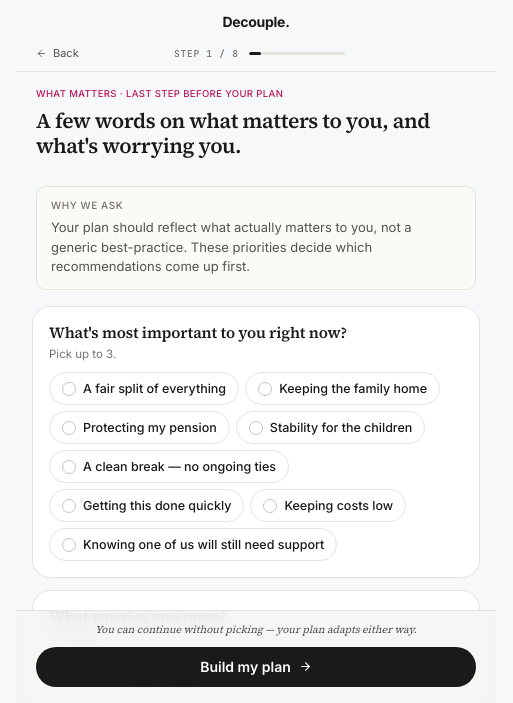
O6 (canvas-as-source) › disables unselected chips when 3 priorities are picked (B1 cap behaviour)
The image size is (513, 703).
Click the button "A fair split of everything": click(144, 389) x1=49 y1=372 x2=239 y2=405
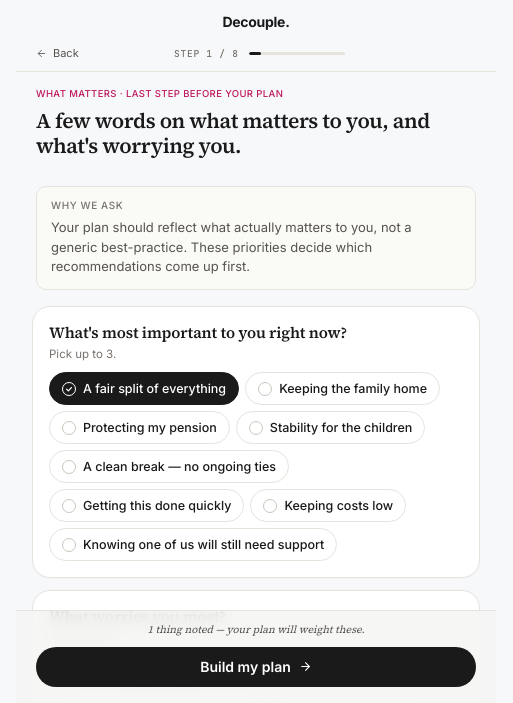
Click the button "Keeping the family home": click(343, 389) x1=245 y1=372 x2=440 y2=405
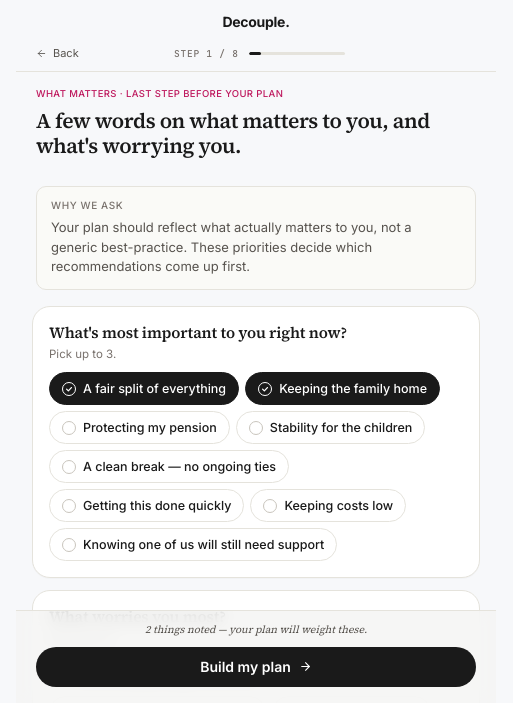
Click the button "Protecting my pension": click(139, 428) x1=49 y1=411 x2=230 y2=444
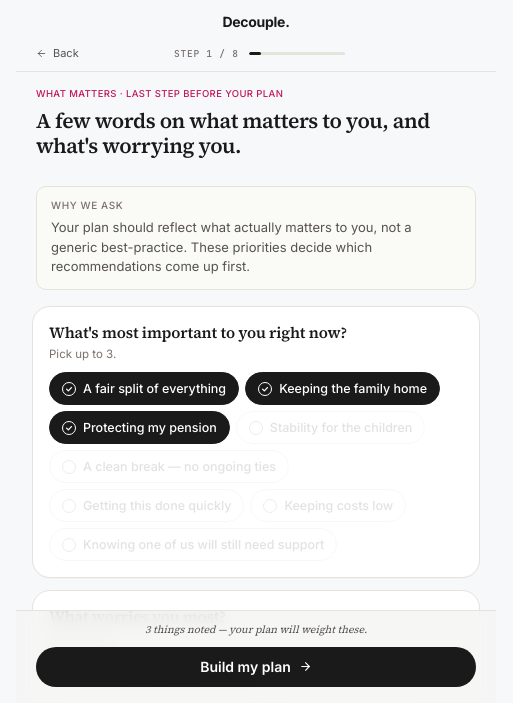
Expected: the button "A fair split of everything" is enabled, x1=49 y1=372 x2=239 y2=405
Expected: the button "Stability for the children" is disabled, x1=236 y1=411 x2=425 y2=444
